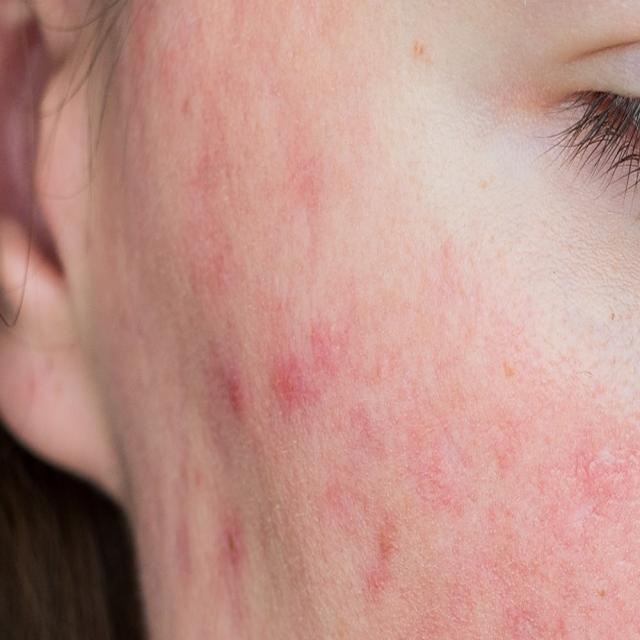Rosacea: (204, 337, 427, 477)
